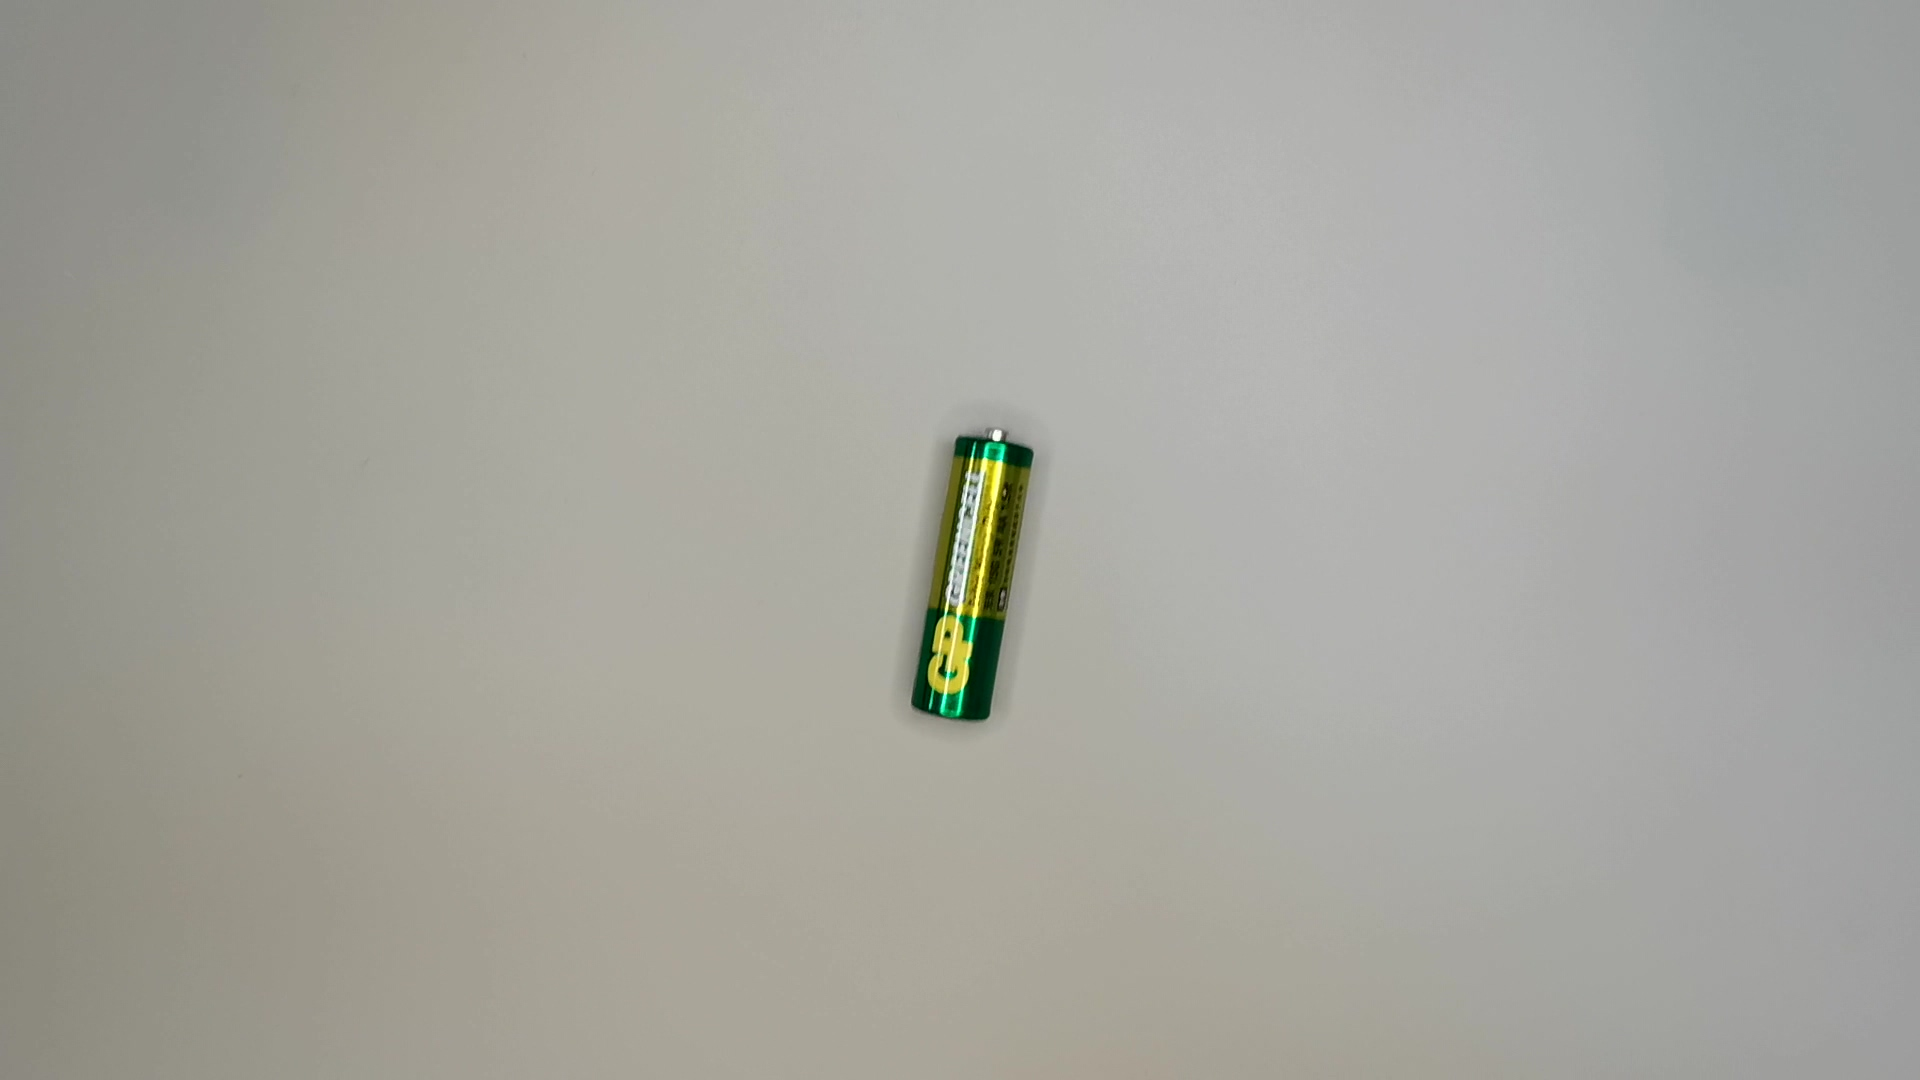battery: (906, 425, 1036, 723)
